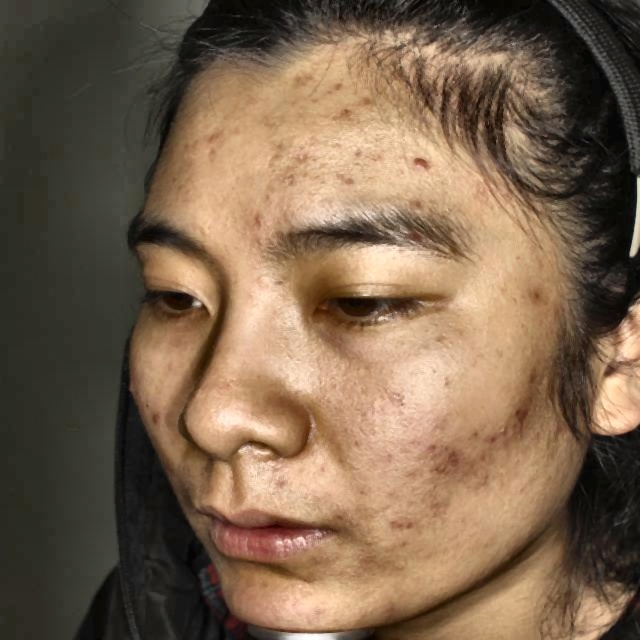pustule: (424, 445, 460, 469), (410, 148, 439, 177), (524, 282, 550, 312), (547, 418, 577, 441), (203, 124, 229, 150), (146, 401, 172, 425), (120, 376, 149, 396), (505, 403, 528, 428), (471, 428, 497, 450), (332, 102, 354, 118)
